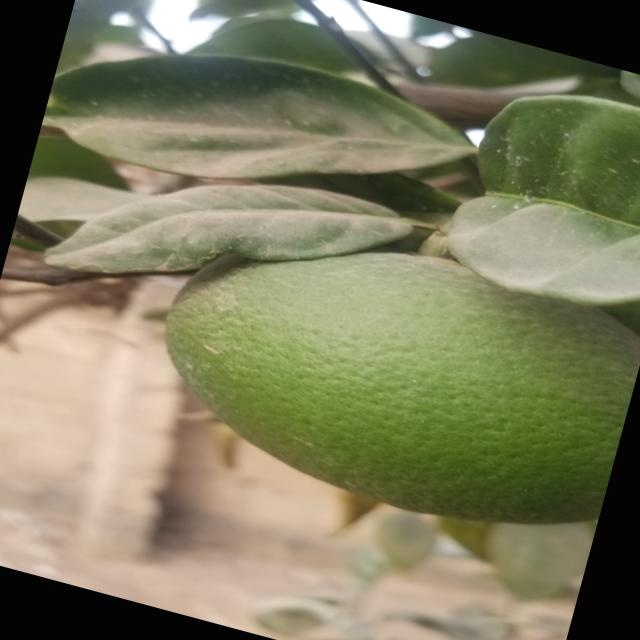agrume: (141, 200, 640, 553)
